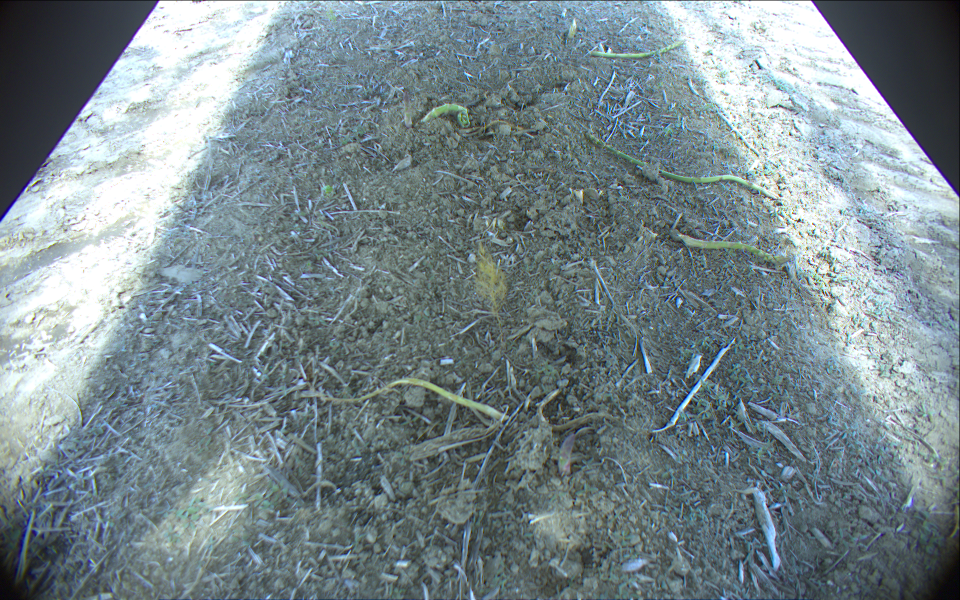aspa: (583, 132, 779, 201), (321, 379, 509, 422), (672, 230, 795, 264), (589, 39, 687, 59), (425, 103, 469, 129), (402, 90, 416, 127), (566, 18, 579, 41)
